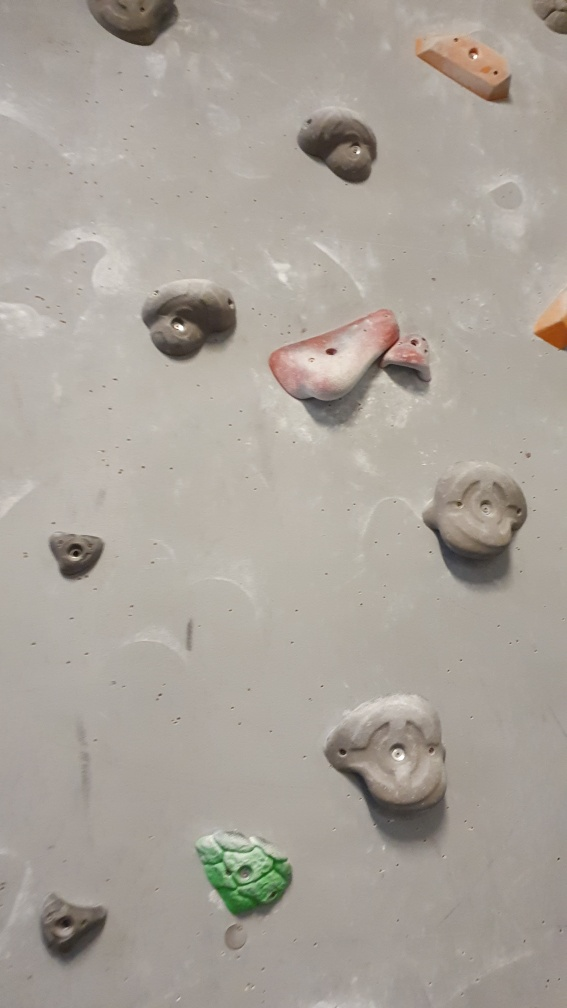Crimp: (48, 528, 110, 581)
Hand Start: (222, 918, 248, 954)
Jug: (320, 688, 452, 816), (417, 455, 531, 566), (140, 276, 242, 363), (296, 103, 383, 186)
Pinch: (410, 27, 517, 106)
